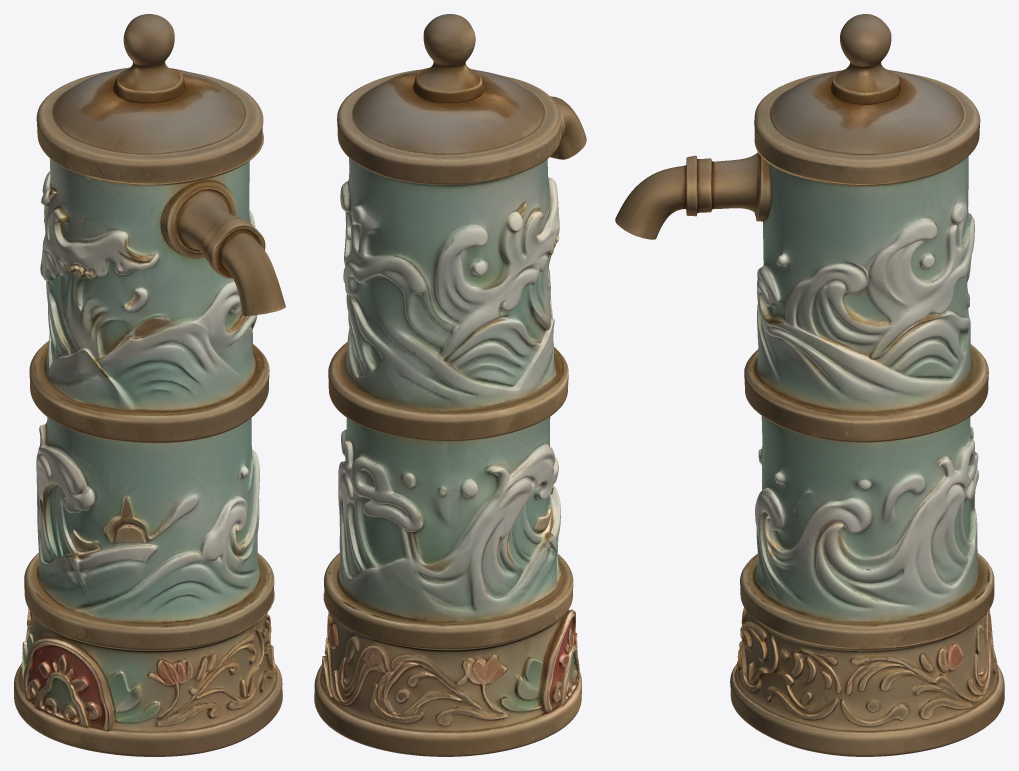
File: act1_water_column_centered.glb
The picture shows the model from 3 angles, left to right: view 1: azimuth 30°, elevation 25°; view 2: azimuth 150°, elevation 25°; view 3: azimuth 270°, elevation 25°; orthographic projection.
Visible parts, largest first — view 1: model; view 2: model; view 3: model.
Boxes of the visible parts, x1,y1,x2,y2 form: model: [14, 14, 285, 756]; model: [314, 14, 586, 756]; model: [615, 14, 1004, 756].
Bounding box in the file's own units: 0.356 × 1 × 0.5155.
Materials: 1 (1 with a texture image).
